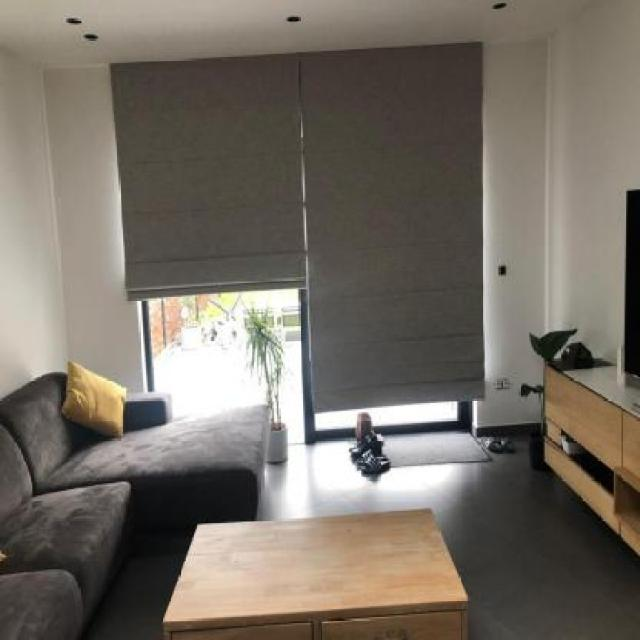Floor: (257, 434, 639, 639), (80, 525, 197, 639)
